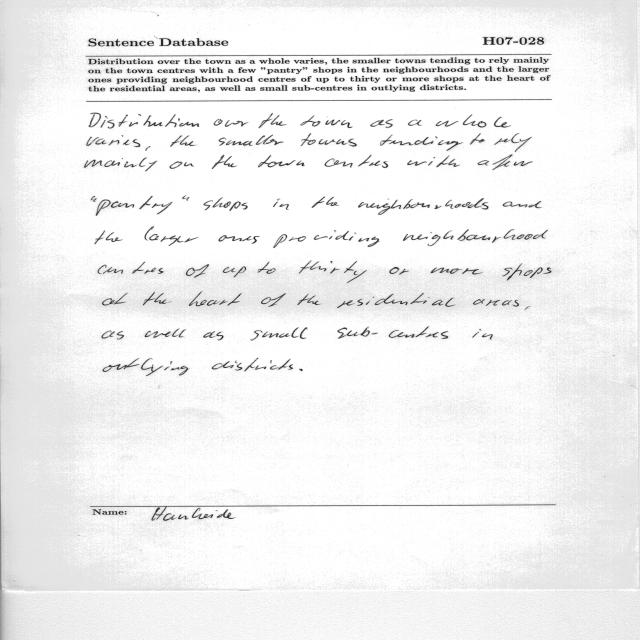word: (403, 229, 548, 246), (358, 198, 489, 215), (273, 230, 379, 248), (337, 293, 455, 308), (89, 113, 199, 128), (103, 358, 189, 376), (299, 261, 367, 283), (96, 196, 172, 215), (380, 134, 463, 151), (337, 327, 448, 339), (212, 358, 293, 371), (84, 157, 157, 171), (145, 227, 198, 246), (435, 115, 511, 128), (503, 264, 552, 281), (325, 155, 388, 168), (98, 262, 164, 274), (301, 133, 357, 147), (189, 292, 242, 306), (251, 328, 307, 341), (494, 133, 532, 152), (219, 135, 284, 146), (300, 115, 353, 128), (492, 154, 533, 170), (87, 135, 140, 147), (204, 197, 248, 211), (407, 156, 460, 167), (258, 155, 305, 167), (259, 113, 287, 128), (95, 231, 122, 245), (218, 235, 260, 244), (145, 329, 186, 338), (473, 299, 519, 307), (431, 268, 483, 275), (143, 292, 171, 305), (212, 155, 237, 169), (261, 293, 286, 307), (103, 293, 129, 306), (186, 264, 209, 278), (170, 135, 196, 147), (312, 197, 339, 208), (503, 201, 542, 208), (214, 119, 248, 127), (223, 267, 246, 278), (297, 294, 320, 305), (258, 262, 276, 274), (472, 329, 493, 339), (370, 119, 393, 128), (102, 331, 124, 340), (170, 161, 194, 169), (203, 332, 224, 341), (273, 199, 289, 210), (390, 267, 410, 275), (470, 134, 484, 145), (408, 120, 422, 126), (478, 160, 489, 165), (91, 196, 97, 202), (183, 196, 190, 201), (146, 146, 151, 151), (525, 306, 530, 310), (299, 369, 303, 371)
